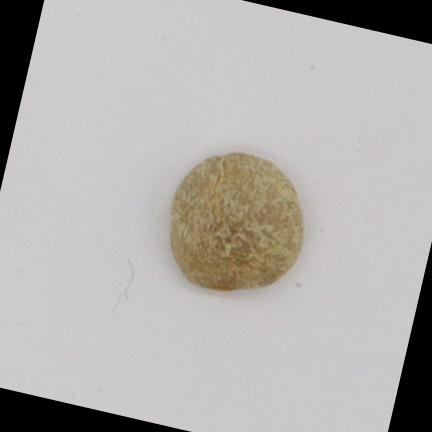immature: (171, 153, 303, 291)
